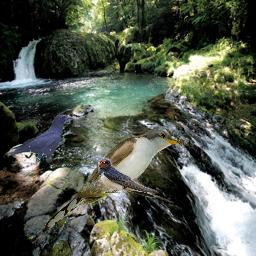Crow: (7, 114, 73, 167)
Cuckoo: (42, 128, 185, 231)
Swallow: (98, 157, 174, 203)
